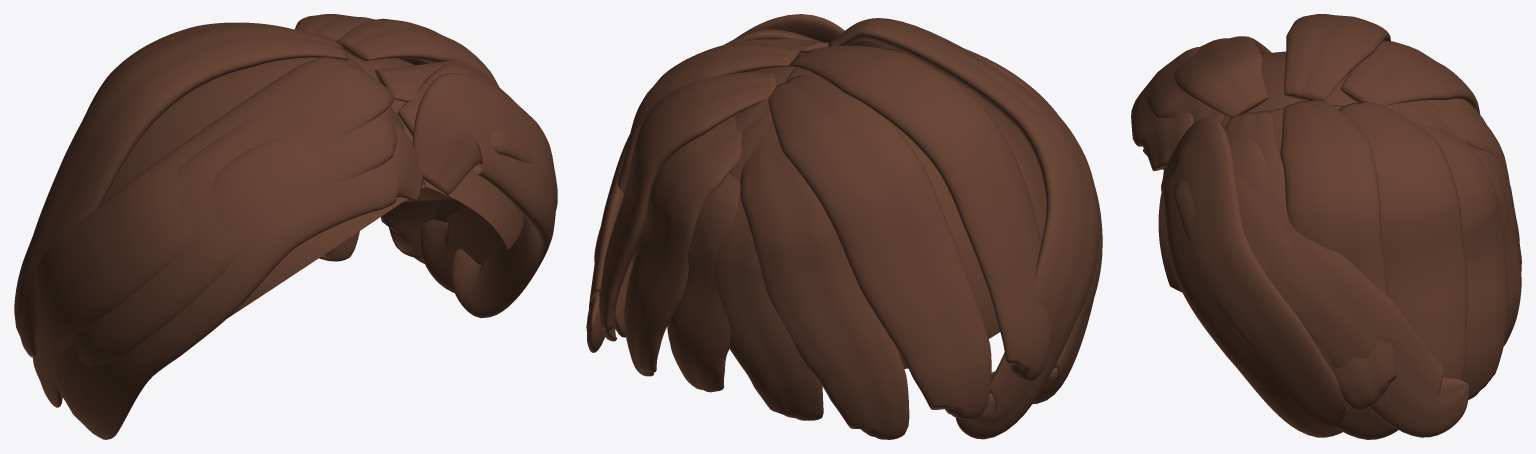
File: Masculine-flow-ears260-hair.glb
The picture shows the model from 3 angles, left to right: view 1: azimuth 30°, elevation 25°; view 2: azimuth 150°, elevation 25°; view 3: azimuth 270°, elevation 25°; orthographic projection. The views are drawn at different scales.
Parts seen in each view (by area): view 1: 226 hair / Hair260 / layered flow; view 2: 226 hair / Hair260 / layered flow; view 3: 226 hair / Hair260 / layered flow.
Boxes of the visible parts, x1=… form: 226 hair / Hair260 / layered flow: x1=14, y1=14, x2=557, y2=439; 226 hair / Hair260 / layered flow: x1=586, y1=14, x2=1102, y2=439; 226 hair / Hair260 / layered flow: x1=1131, y1=14, x2=1521, y2=439.
Size of the model in its own units: 1.12 by 0.7722 by 0.87.
